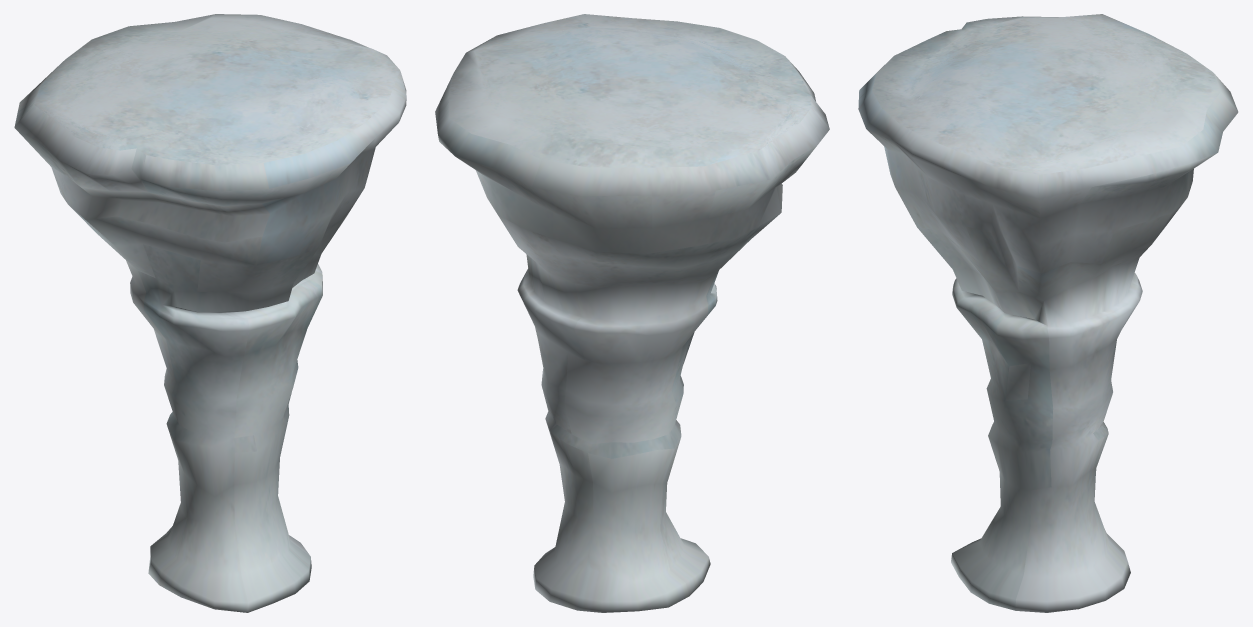
File: P_RockDesert_Layered04.obj
3 views of the same model, side by side, from view 1: azimuth 30°, elevation 25°; view 2: azimuth 150°, elevation 25°; view 3: azimuth 270°, elevation 25° (orthographic). The views are drawn at different scales.
Size of the model in its own units: 21.43 by 29.97 by 20.6.
